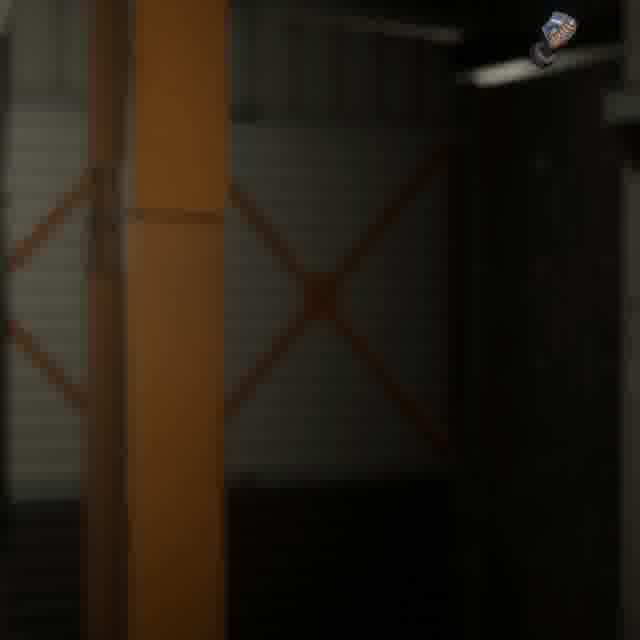bolt: (525, 13, 581, 72)
nut: (537, 7, 580, 49)
